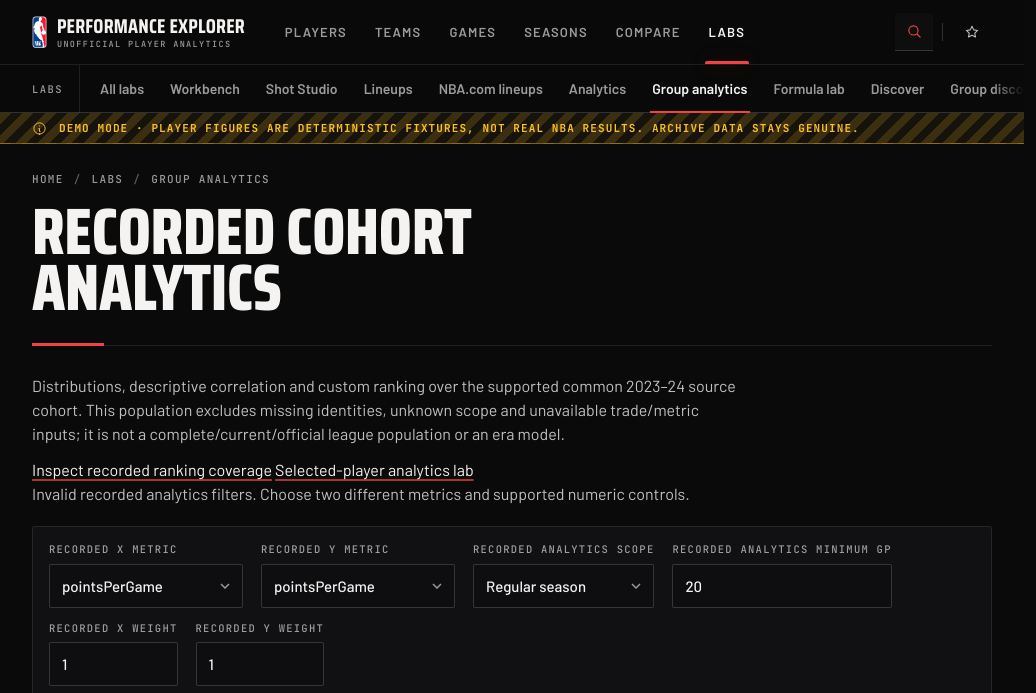
Test case: recorded common-cohort analytics UI › rejects repeated/equal metrics before fetching and keeps editable controls
Check: the message shows "Invalid", box 32,484 -> 690,503
Select "reboundsPerGame" in the dropdown labelled "Recorded Y metric" at (358, 586), box 261,564 -> 455,608
(page scrolled)
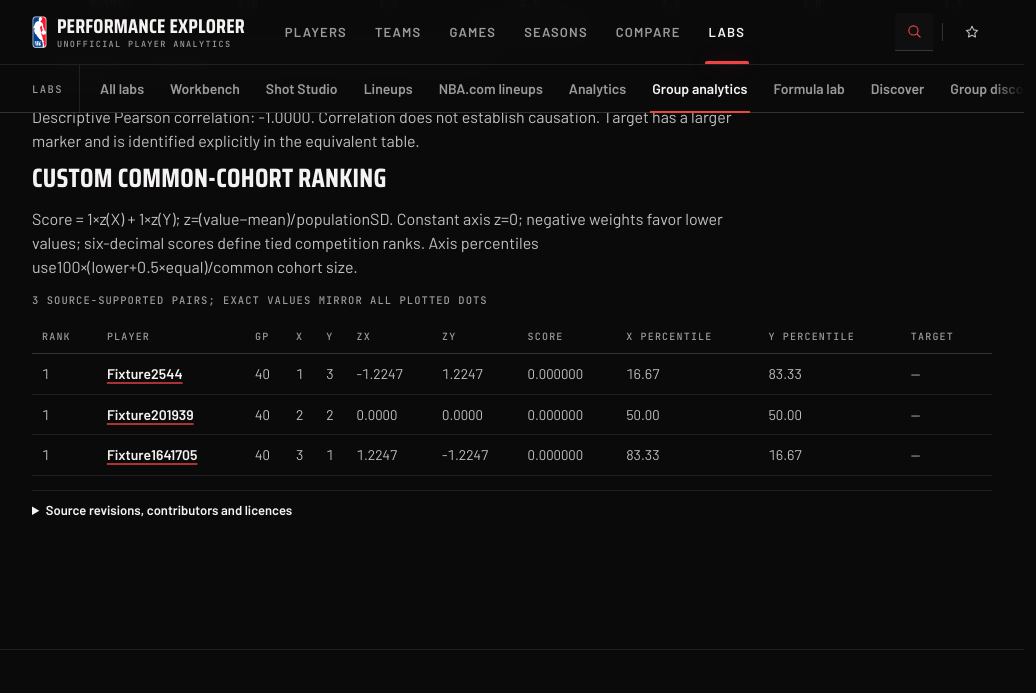
Check: the element named "Recorded analytics exact values" is shown, box 32,293 -> 992,476
